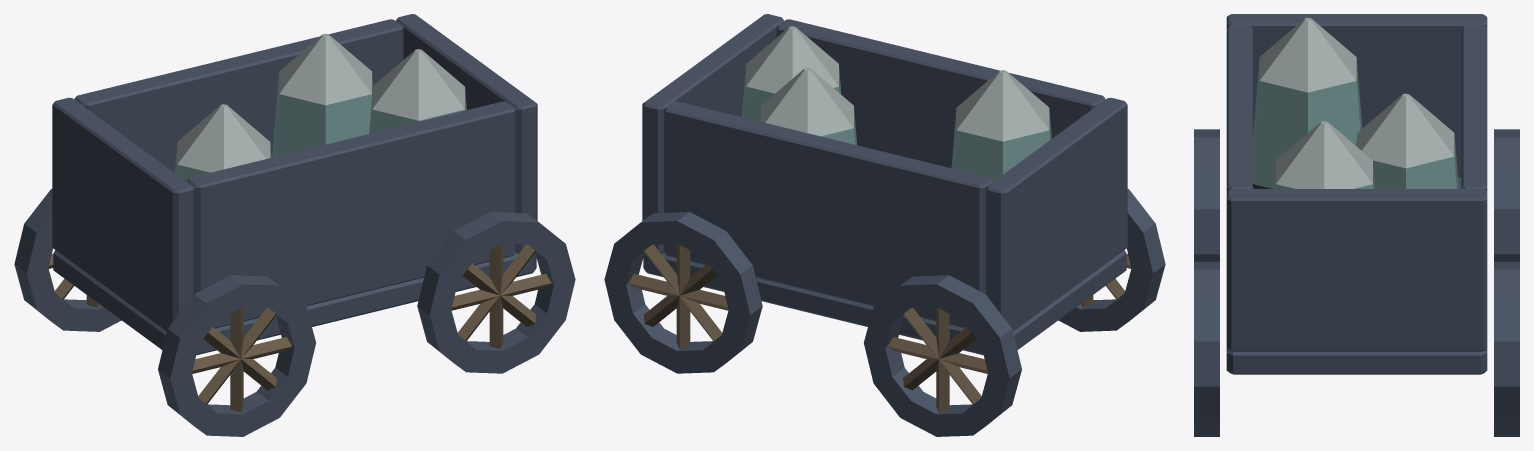
The model's file is mine-cart.glb.
3 views of the same model, side by side, from view 1: azimuth 30°, elevation 25°; view 2: azimuth 150°, elevation 25°; view 3: azimuth 270°, elevation 25° (orthographic). The views are drawn at different scales.
Visible parts, largest first — view 1: mine-cart__body; view 2: mine-cart__body; view 3: mine-cart__body.
Part boxes in pixels (x1,y1,x2,y2): mine-cart__body: [14, 14, 575, 436]; mine-cart__body: [604, 14, 1165, 436]; mine-cart__body: [1194, 14, 1519, 436].
Bounding box in the file's own units: 1.5 × 1 × 1.
